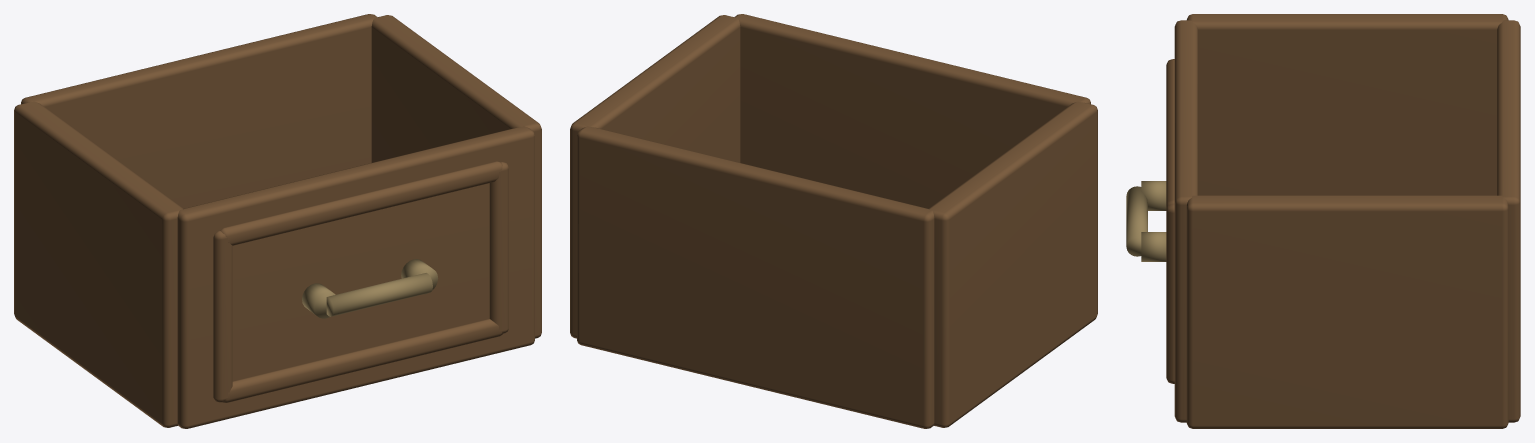
File: drawer.glb
The picture shows the model from 3 angles, left to right: view 1: azimuth 30°, elevation 25°; view 2: azimuth 150°, elevation 25°; view 3: azimuth 270°, elevation 25°; orthographic projection. The views are drawn at different scales.
Parts seen in each view (by area): view 1: drawer; view 2: drawer; view 3: drawer.
Part boxes in pixels (x1=…): drawer: x1=14, y1=14, x2=541, y2=428; drawer: x1=570, y1=14, x2=1097, y2=428; drawer: x1=1126, y1=14, x2=1520, y2=428.
Bounding box in the file's own units: 1.07 × 0.58 × 0.9175.
